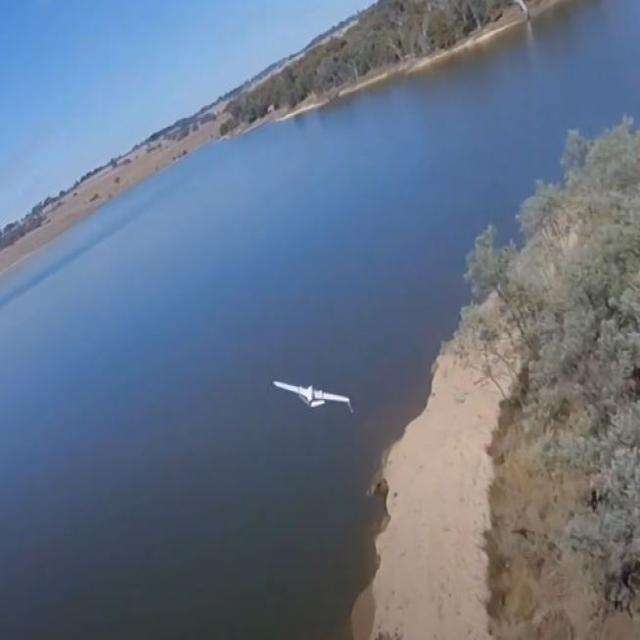iha: (304, 372, 320, 404)
